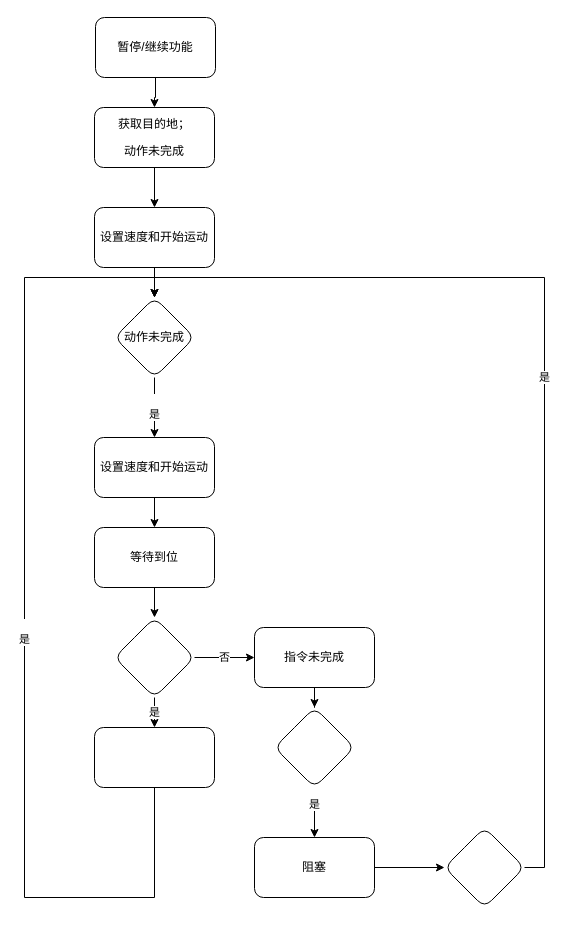
Image size: 570x925. Some labels were removed from this diagram. The shapes that lost their labels are listed below. From the top down, each one's centre as x and y in pixels, then its label:
At point 154,657: "到位？".
At point 154,757: "指令完成".
At point 314,747: "暂停？".
At point 484,867: "继续？".
